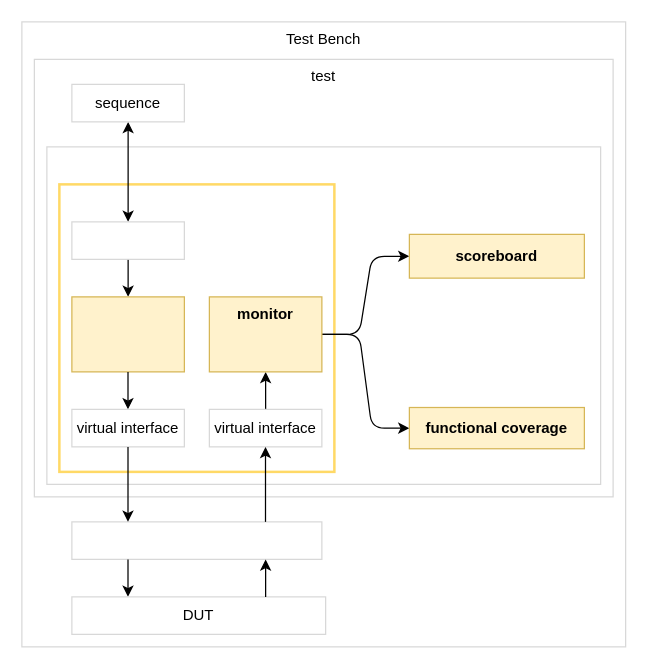
Image size: 648x669. Some labels were removed from this diagram. The box of each missing label's shape, as (x1, y1, x2, y2) in pixels:
driver: (71, 296, 184, 372)
environment: (46, 146, 601, 484)
IIC_agnet: (58, 182, 335, 472)
Interface: (71, 521, 322, 559)
sequencer: (71, 221, 184, 259)
